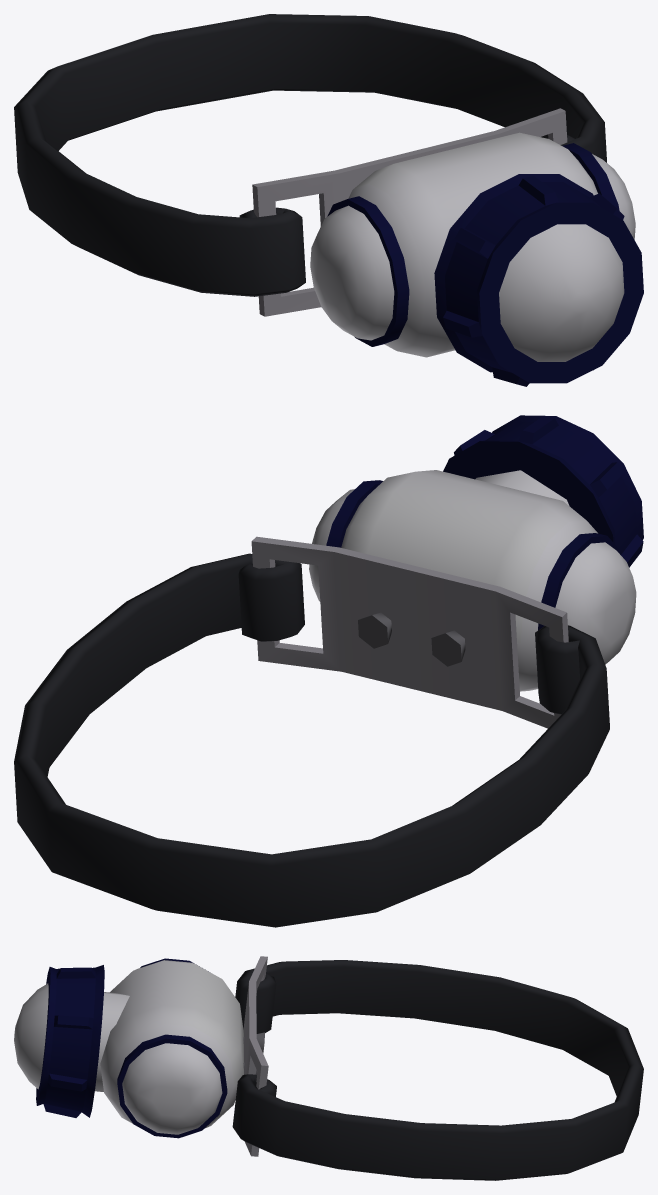
File: Headlamp.fbx
3 views of the same model, one above another, from view 1: azimuth 30°, elevation 25°; view 2: azimuth 150°, elevation 25°; view 3: azimuth 270°, elevation 25° (orthographic). The views are drawn at different scales.
Parts seen in each view (by area): view 1: Headlamp; view 2: Headlamp; view 3: Headlamp.
Part boxes in pixels (bbox=[...]): Headlamp: bbox=[14, 14, 643, 386]; Headlamp: bbox=[14, 415, 643, 927]; Headlamp: bbox=[14, 956, 643, 1180].
Size of the model in its own units: 23.73 by 38 by 9.96.
